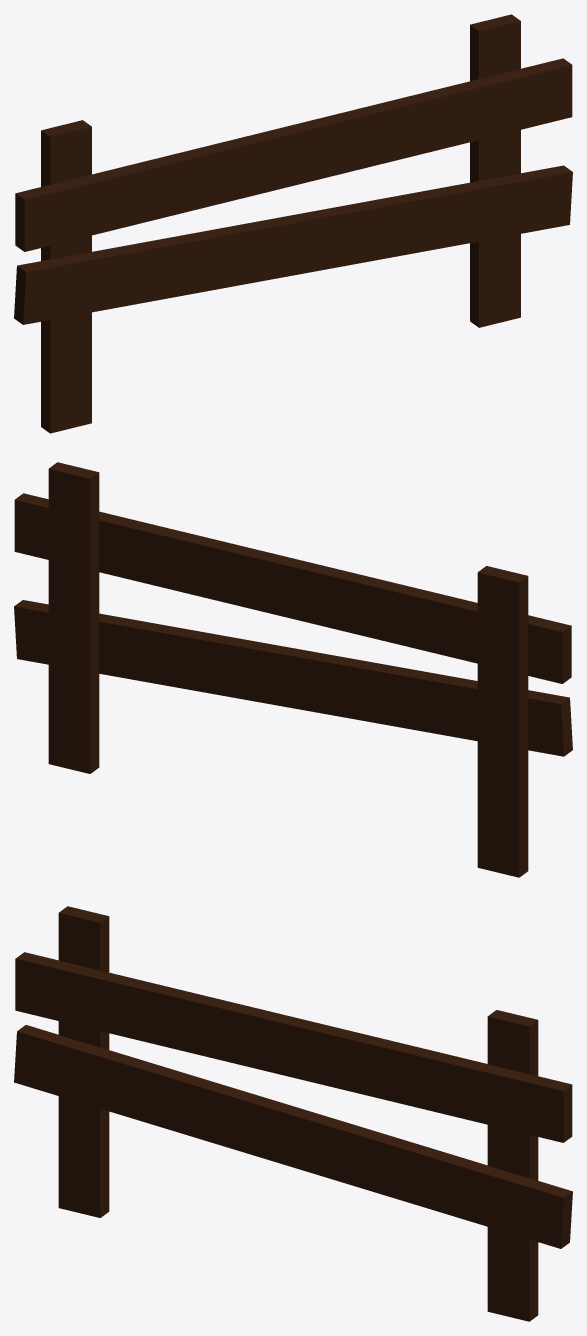
The model's file is fence2.obj.
3 views of the same model, one above another, from view 1: azimuth 30°, elevation 25°; view 2: azimuth 150°, elevation 25°; view 3: azimuth 330°, elevation 25° (orthographic).
Visible parts, largest first — view 1: Fence1.001_Cube.052; view 2: Fence1.001_Cube.052; view 3: Fence1.001_Cube.052.
Boxes of the visible parts, box(x1,y1,x2,y2) form: Fence1.001_Cube.052: box(14, 14, 572, 433); Fence1.001_Cube.052: box(14, 462, 572, 877); Fence1.001_Cube.052: box(14, 906, 572, 1321).
Size of the model in its own units: 3.8 by 1.95 by 0.2283.
